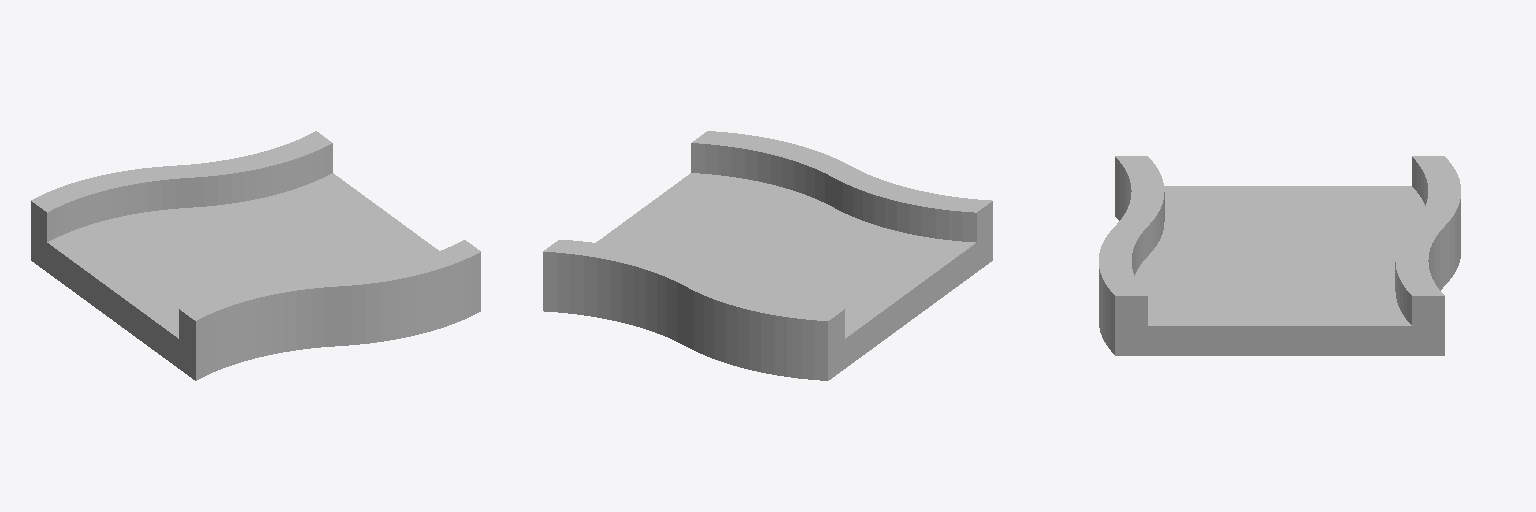
File: mwiggle.obj
The picture shows the model from 3 angles: view 1: azimuth 30°, elevation 25°; view 2: azimuth 150°, elevation 25°; view 3: azimuth 270°, elevation 25°; orthographic projection.
Parts seen in each view (by area): view 1: mwiggle; view 2: mwiggle; view 3: mwiggle.
Boxes of the visible parts, box(x1,y1,x2,y2) form: mwiggle: box(31, 131, 480, 380); mwiggle: box(543, 131, 992, 380); mwiggle: box(1099, 156, 1460, 355).
Size of the model in its own units: 10 by 2 by 11.